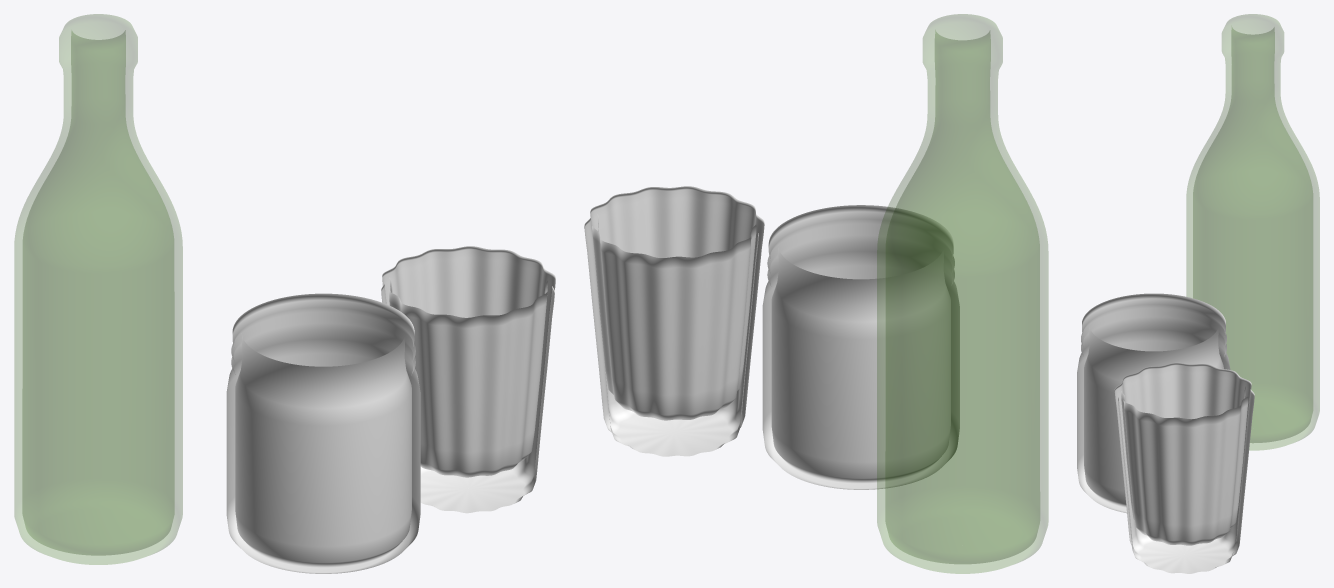
Rendered from vidrio.glb.
3 views of the same model, side by side, from view 1: azimuth 30°, elevation 25°; view 2: azimuth 150°, elevation 25°; view 3: azimuth 270°, elevation 25° (orthographic). The views are drawn at different scales.
Visible parts, largest first — view 1: Bottle, Jar, Tumbler; view 2: Bottle, Jar, Tumbler; view 3: Bottle, Tumbler, Jar.
Part boxes in pixels (x1,y1,x2,y2): Bottle: (14,14,182,564); Jar: (226,293,420,573); Tumbler: (381,246,555,513); Bottle: (877,14,1048,573); Jar: (762,205,959,489); Tumbler: (584,186,764,456); Bottle: (1186,14,1319,450); Tumbler: (1114,362,1254,573); Jar: (1077,293,1230,513).
Size of the model in its own units: 0.255 by 0.2601 by 0.1421.
